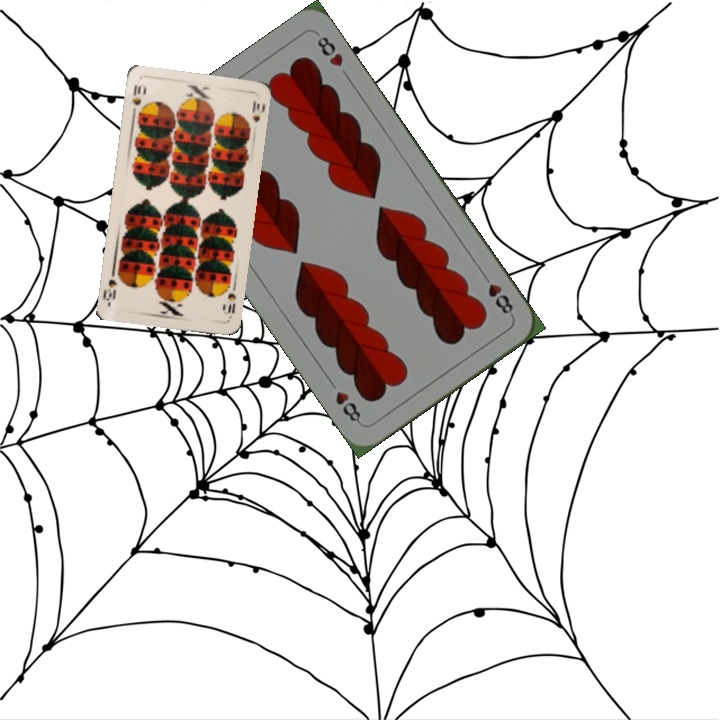H8: (477, 268, 516, 320)
S10: (128, 81, 147, 119), (224, 289, 239, 316)
